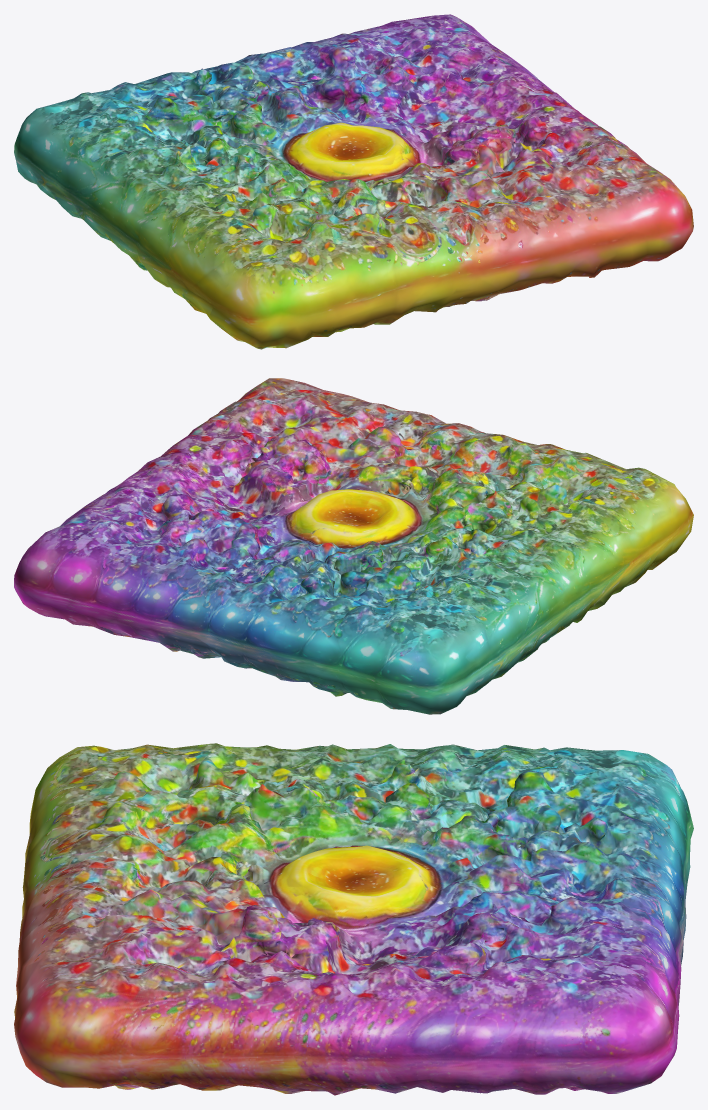
Rendered from platform_for_fun_game_0718232003_refine.fbx.
The picture shows the model from 3 angles, top to bottom: view 1: azimuth 30°, elevation 25°; view 2: azimuth 150°, elevation 25°; view 3: azimuth 270°, elevation 25°; orthographic projection. The views are drawn at different scales.
Parts seen in each view (by area): view 1: Mesh_0; view 2: Mesh_0; view 3: Mesh_0.
Boxes of the visible parts, x1,y1,x2,y2 form: Mesh_0: (14,14,693,349); Mesh_0: (14,378,693,714); Mesh_0: (14,743,693,1095).
Bounding box in the file's own units: 120 × 30.49 × 120.
1 material, 1 textured.
